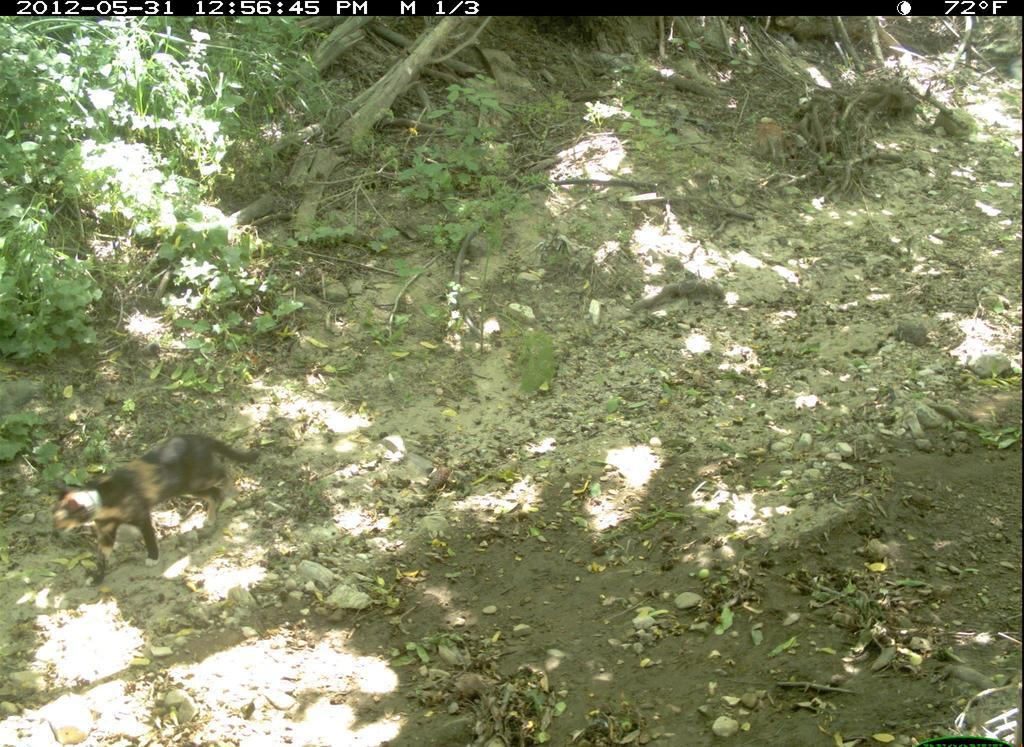cat: (44, 423, 269, 582)
